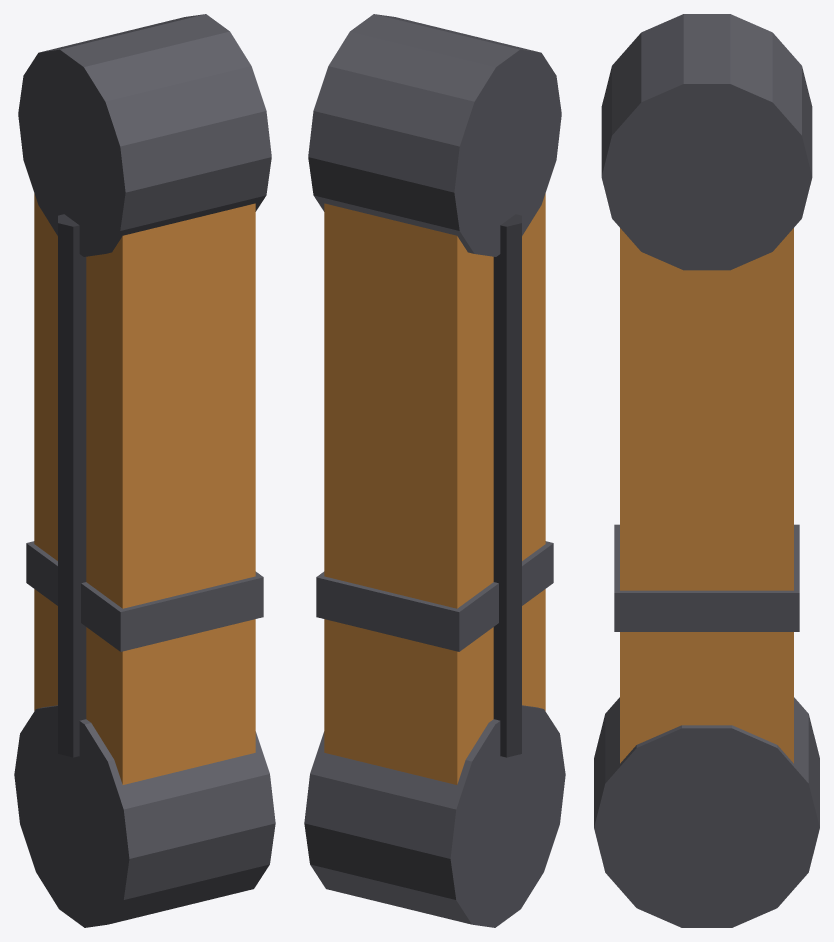
File: robot-upper.glb
3 renders of one model, left to right at view 1: azimuth 30°, elevation 25°; view 2: azimuth 150°, elevation 25°; view 3: azimuth 270°, elevation 25°, orthographic.
Parts seen in each view (by area): view 1: vantor_s0, vantor_s-1; view 2: vantor_s-1, vantor_s0; view 3: vantor_s0, vantor_s-1.
Part boxes in pixels (box(x1,y1,x2,y2)): vantor_s0: box(26, 31, 275, 924); vantor_s-1: box(14, 14, 229, 927); vantor_s-1: box(304, 14, 565, 927); vantor_s0: box(316, 14, 553, 783); vantor_s0: box(594, 14, 799, 827); vantor_s-1: box(594, 14, 819, 927).
Size of the model in its own units: 0.1565 by 0.8038 by 0.195.
